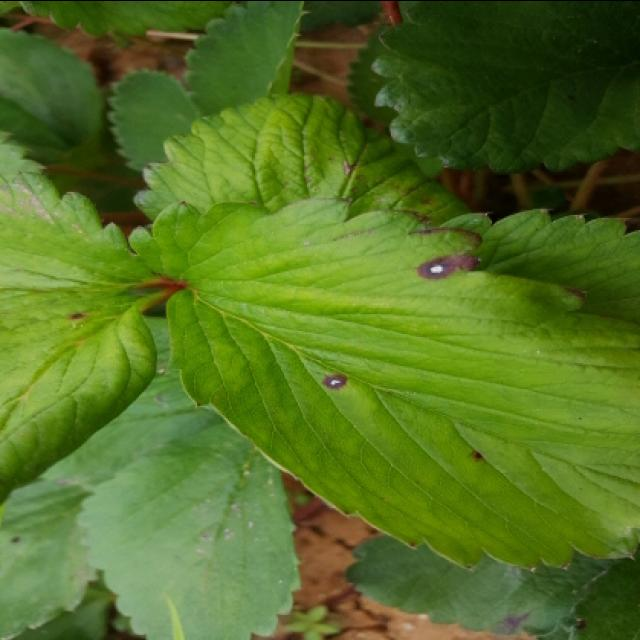Leaf Spot: (152, 194, 638, 574), (0, 168, 169, 503), (132, 89, 475, 225), (343, 528, 615, 637), (0, 477, 96, 640), (560, 554, 638, 640)
